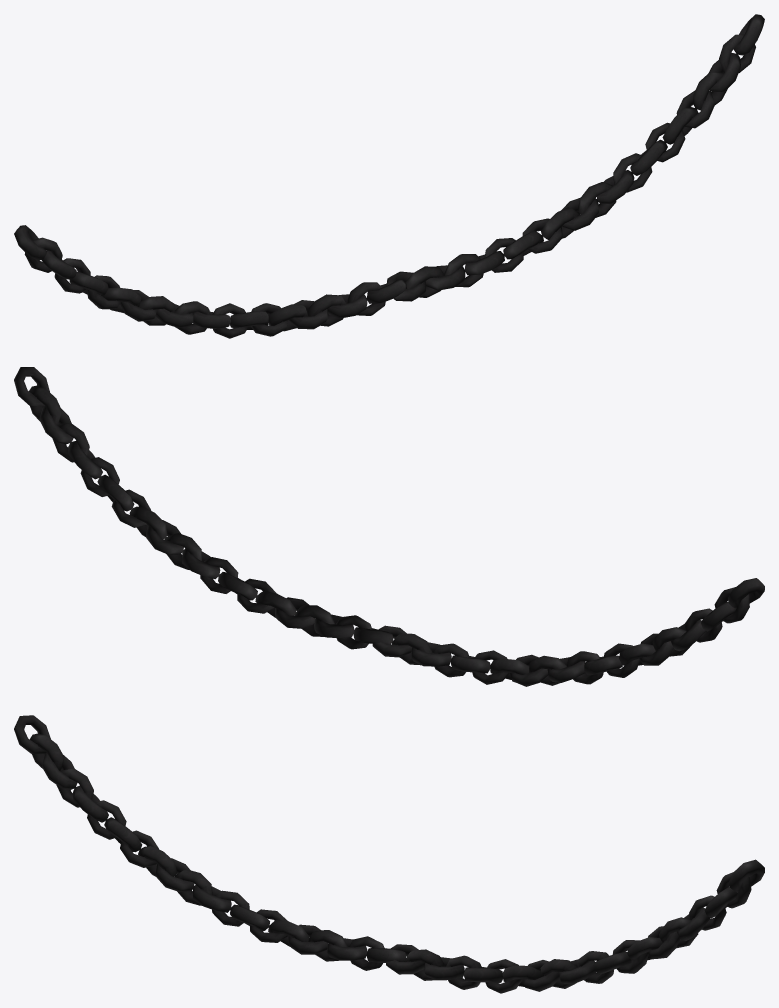
3 renders of one model, top to bottom at view 1: azimuth 30°, elevation 25°; view 2: azimuth 150°, elevation 25°; view 3: azimuth 330°, elevation 25°, orthographic.
Visible parts, largest first — view 1: Link; view 2: Link; view 3: Link.
Boxes of the visible parts, <box> form: Link: <box>14,14,764,338</box>; Link: <box>14,367,764,686</box>; Link: <box>14,715,764,993</box>.
Bounding box in the file's own units: 374 × 98.3 × 15.4.
